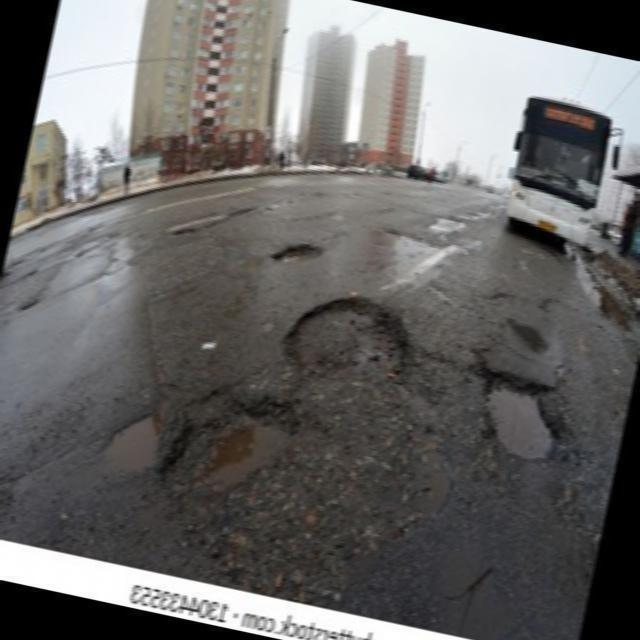Pothole: (156, 397, 336, 507), (280, 294, 414, 388), (474, 365, 565, 468), (376, 213, 489, 284), (164, 194, 261, 244), (98, 408, 162, 474), (77, 228, 146, 288), (259, 239, 337, 267)
